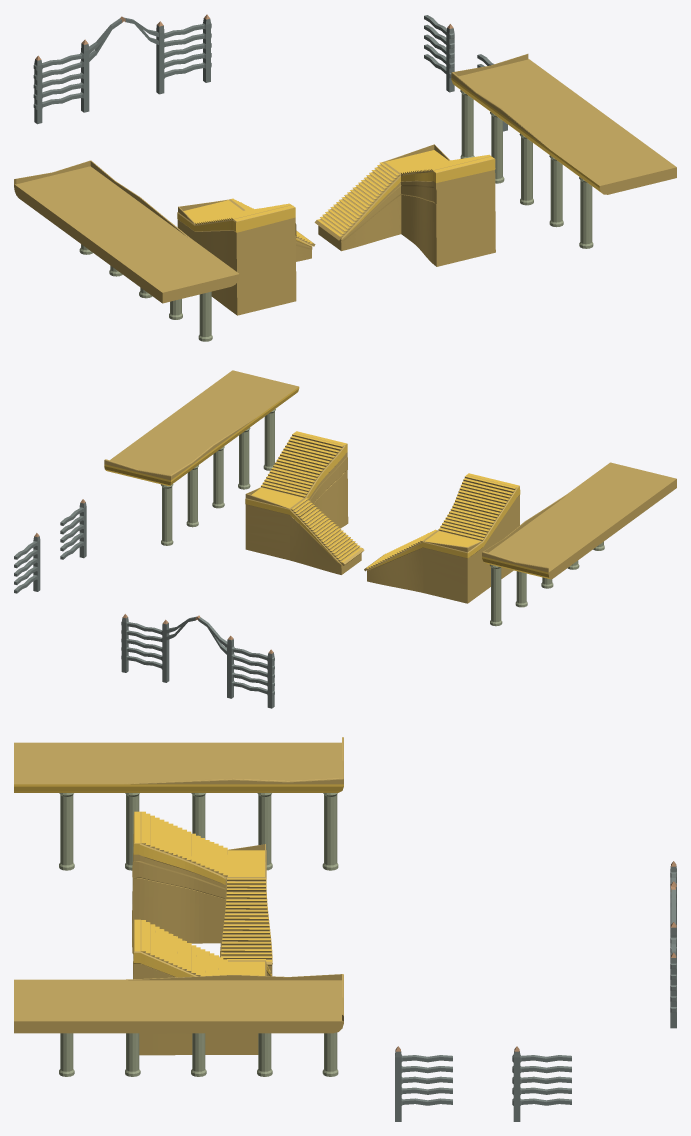
The model's file is Temple assets.fbx.
The picture shows the model from 3 angles, top to bottom: view 1: azimuth 30°, elevation 25°; view 2: azimuth 150°, elevation 25°; view 3: azimuth 270°, elevation 25°; orthographic projection. The views are drawn at different scales.
Visible parts, largest first — view 1: Stairs.002, Platforms.001, Platforms.002, Stairs.001, Fence gateway, Pillars 4, Fence.005, Pillars 3, Pillars 1; view 2: Stairs.002, Stairs.001, Platforms.001, Platforms.002, Fence gateway, Pillars 4, Pillars 2, Fence.005, Fence.003, Pillars 1; view 3: Platforms.002, Platforms.001, Stairs.001, Stairs.002, Pillars 4, Pillars 3, Fence.005, Fence.003, Pillars 2, Fence gateway, Pillars 1.
Boxes of the visible parts, <box> form: Stairs.002: <box>314,144,495,266</box>; Platforms.001: <box>14,160,239,303</box>; Platforms.002: <box>451,54,676,194</box>; Stairs.001: <box>177,198,315,315</box>; Fence gateway: <box>33,14,211,124</box>; Pillars 4: <box>490,112,593,248</box>; Fence.005: <box>424,15,454,92</box>; Pillars 3: <box>139,287,212,341</box>; Pillars 1: <box>460,90,474,158</box>; Stairs.002: <box>245,431,467,574</box>; Stairs.001: <box>364,473,520,603</box>; Platforms.001: <box>482,462,676,579</box>; Platforms.002: <box>104,370,299,486</box>; Fence gateway: <box>121,614,274,708</box>; Pillars 4: <box>186,409,275,527</box>; Pillars 2: <box>490,564,527,626</box>; Fence.005: <box>14,533,40,593</box>; Fence.003: <box>60,499,86,559</box>; Pillars 1: <box>161,484,173,545</box>; Platforms.002: <box>14,974,343,1033</box>; Platforms.001: <box>14,737,343,792</box>; Stairs.001: <box>132,811,272,975</box>; Stairs.002: <box>132,919,271,1055</box>; Pillars 4: <box>59,1033,272,1076</box>; Pillars 3: <box>59,793,205,870</box>; Fence.005: <box>512,1046,571,1121</box>; Fence.003: <box>395,1046,452,1121</box>; Pillars 2: <box>257,793,338,870</box>; Fence gateway: <box>670,861,676,1028</box>; Pillars 1: <box>322,1032,338,1076</box>.
Size of the model in its own units: 10050 by 1827 by 10050.
